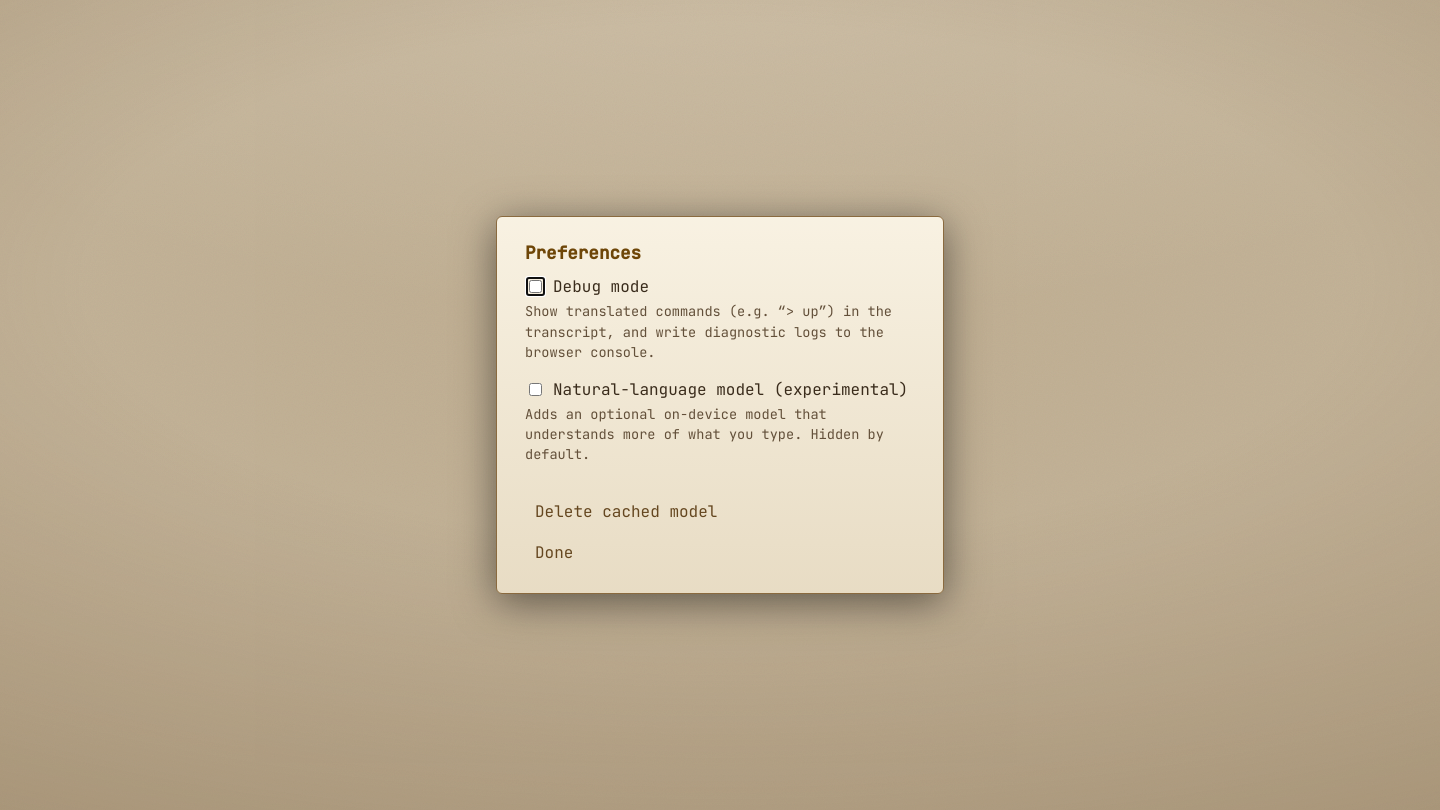
PreferencesModal — delete cached model › reveals an inline confirm (prompt + confirm/cancel) on the first click
The image size is (1440, 810).
Click the button "Delete cached model".
click(626, 511)  # box [525,495,727,528]
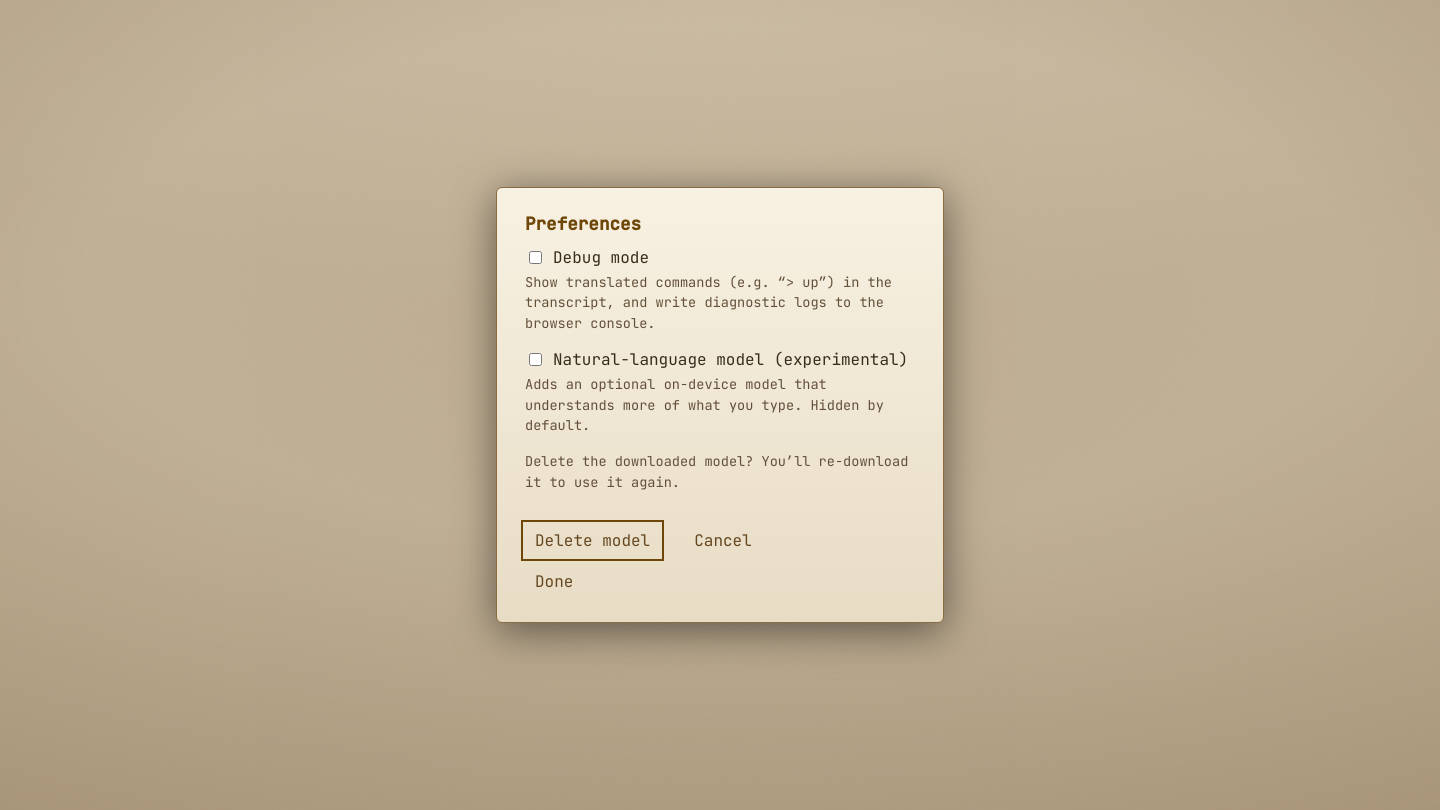
Expected: the text "Delete the downloaded model? You’ll re-download it to use it again." is shown, [525,451,915,492]
Expected: the button "Cancel" is shown, [684,524,762,557]
Expected: the button "Delete cached model" is gone
